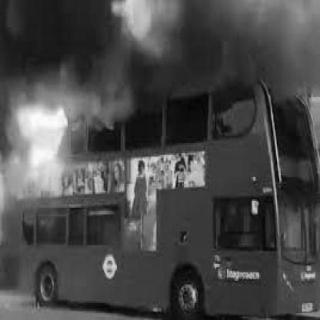Fire: (14, 98, 70, 180)
